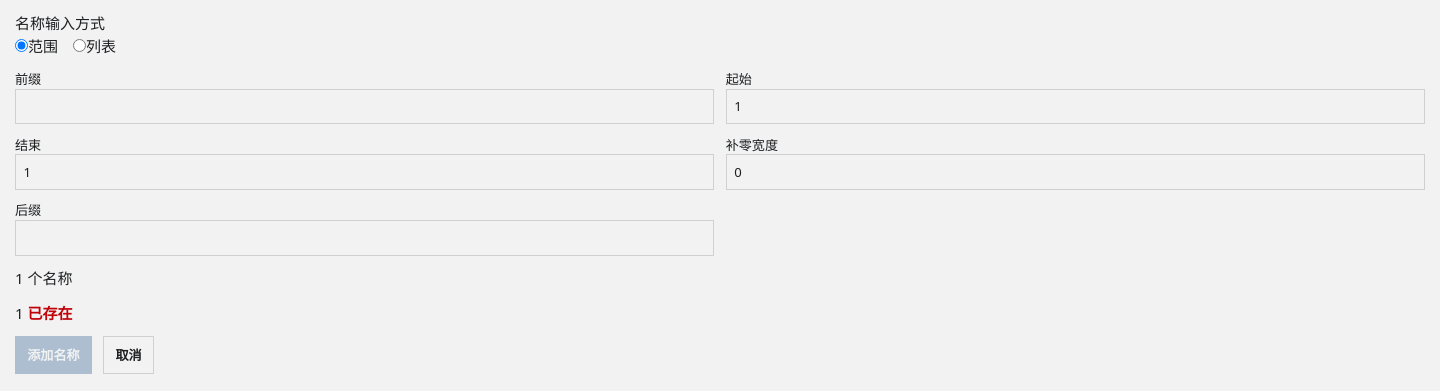
Scenario: renders validation and actions in Chinese
The image size is (1440, 391).
Expected: the text "已存在" is shown, x1=28 y1=302 x2=72 y2=322
Expected: the button "添加名称" is disabled, x1=15 y1=336 x2=92 y2=374
What coordinates should you click on to do the following:
click the radio button labelled "列表"
I would click on:
 (80, 46)
Its box is x1=73 y1=39 x2=86 y2=52.
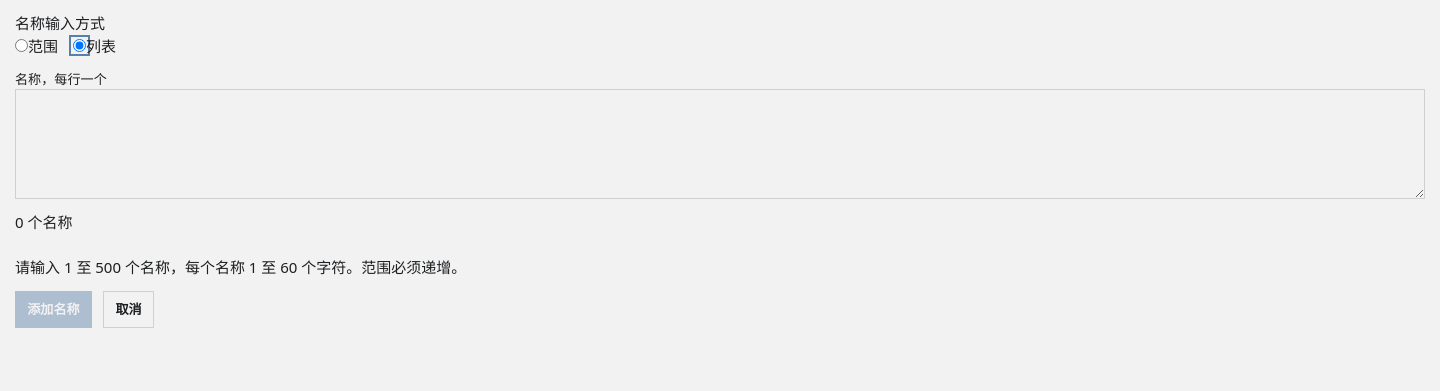
Now the text box labelled "名称，每行一个" is shown, box x1=15 y1=88 x2=1425 y2=199
